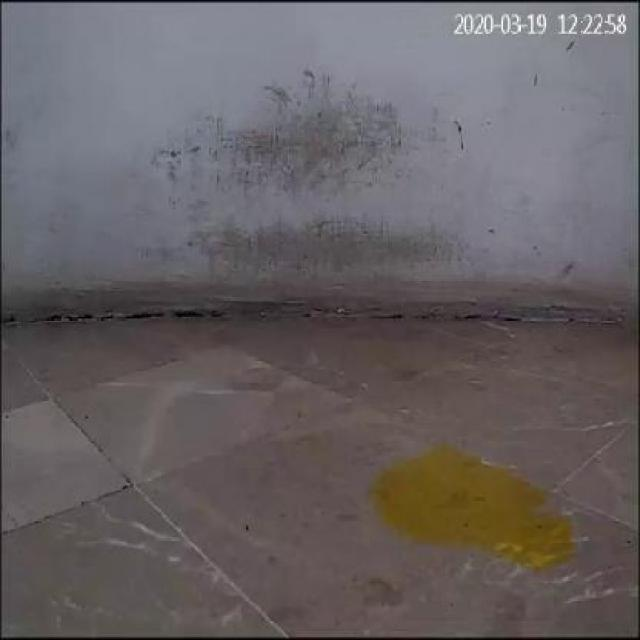spill: (359, 452, 573, 570)
